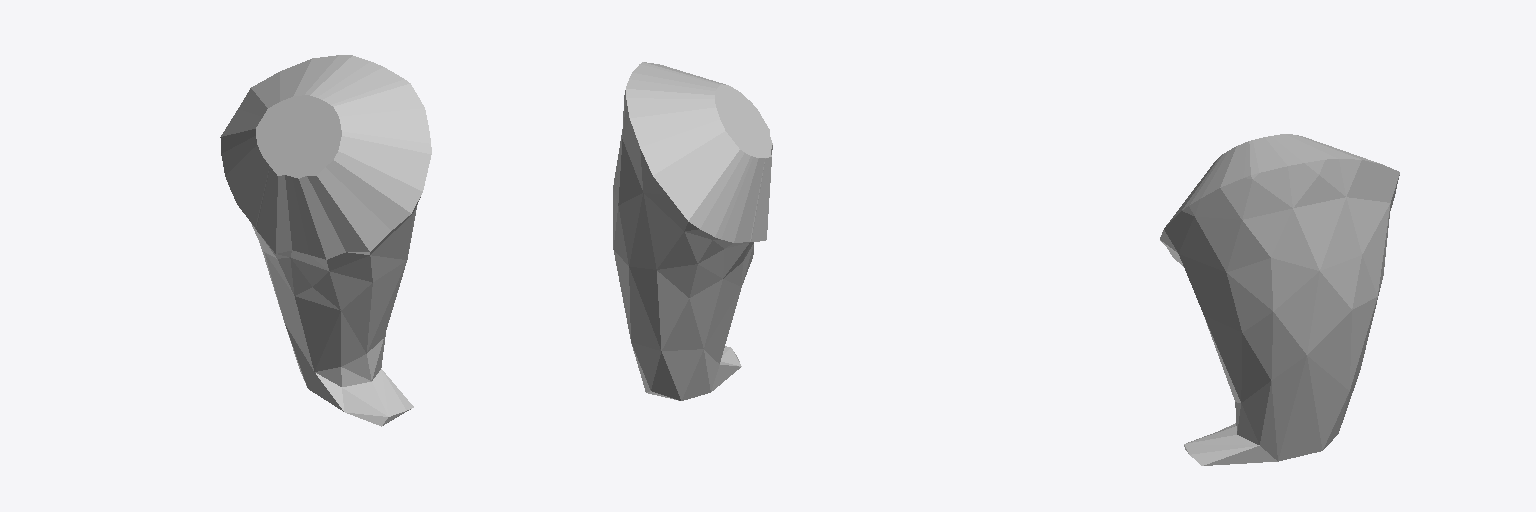
Rendered from B_RightLegBear.obj.
3 renders of one model, left to right at view 1: azimuth 30°, elevation 25°; view 2: azimuth 150°, elevation 25°; view 3: azimuth 270°, elevation 25°, orthographic.
Parts seen in each view (by area): view 1: Bear_Low_Poly.003; view 2: Bear_Low_Poly.003; view 3: Bear_Low_Poly.003.
Part boxes in pixels (bbox=[...]): Bear_Low_Poly.003: bbox=[220, 55, 431, 426]; Bear_Low_Poly.003: bbox=[613, 62, 772, 400]; Bear_Low_Poly.003: bbox=[1160, 134, 1399, 465].
Size of the model in its own units: 0.6847 by 0.7031 by 0.4955.